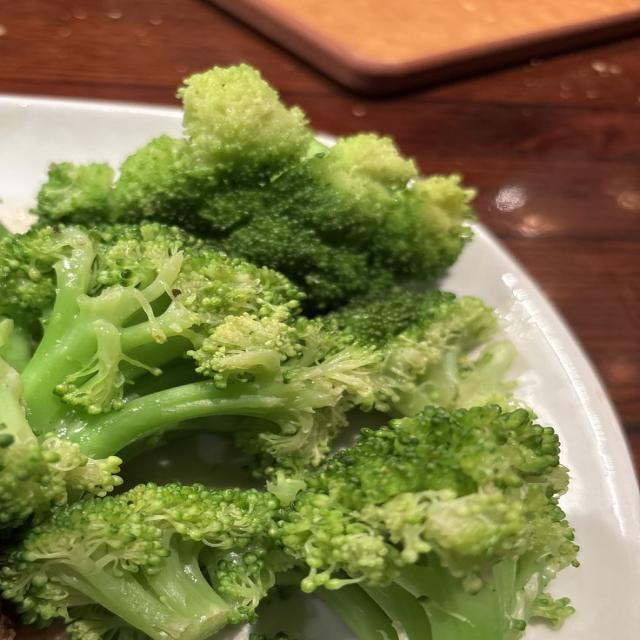broccoli: (35, 65, 473, 311), (0, 224, 381, 463), (280, 406, 577, 639), (0, 484, 289, 639), (325, 290, 515, 415), (0, 358, 121, 530)
